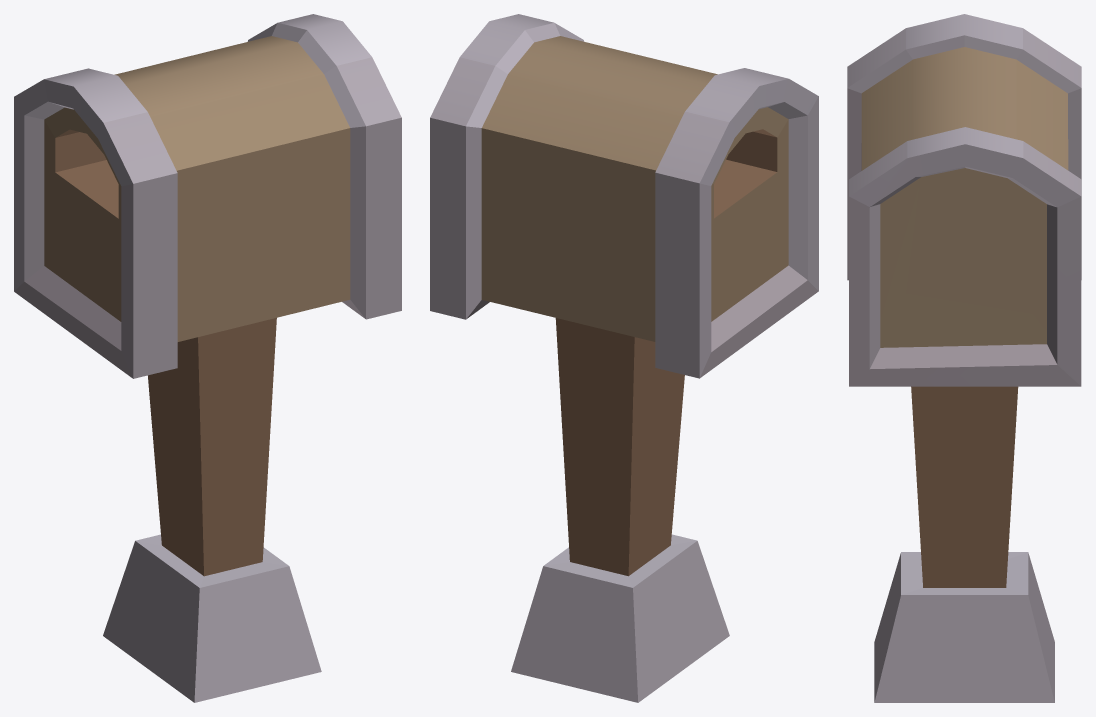
File: mailbox.glb
3 views of the same model, side by side, from view 1: azimuth 30°, elevation 25°; view 2: azimuth 150°, elevation 25°; view 3: azimuth 270°, elevation 25° (orthographic).
Visible parts, largest first — view 1: Mailbox.001; view 2: Mailbox.001; view 3: Mailbox.001.
Part boxes in pixels (x1,y1,x2,y2): Mailbox.001: (14,14,401,702); Mailbox.001: (430,14,818,702); Mailbox.001: (847,14,1081,702).
Bounding box in the file's own units: 0.5109 × 1.08 × 0.3897.
